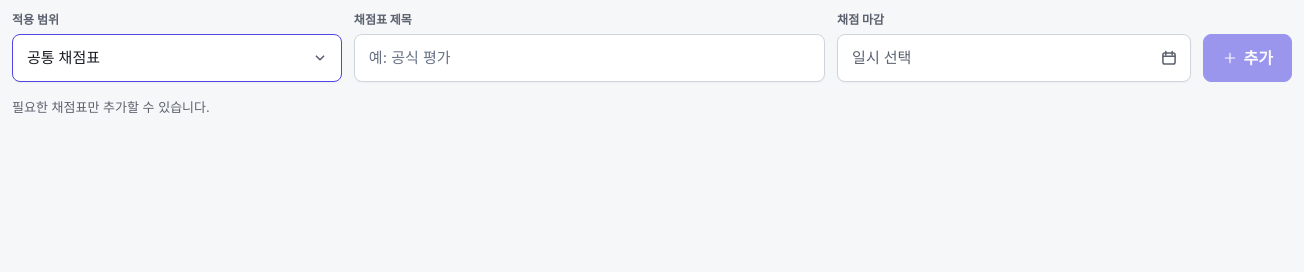
Test: ProgramCreateRubricBuilder › 빠른 추가 행에서 채점표 적용 범위를 먼저 선택할 수 있다
Click the dropdown named "새 채점표 적용 범위": click(64, 57) [12, 34, 342, 82]
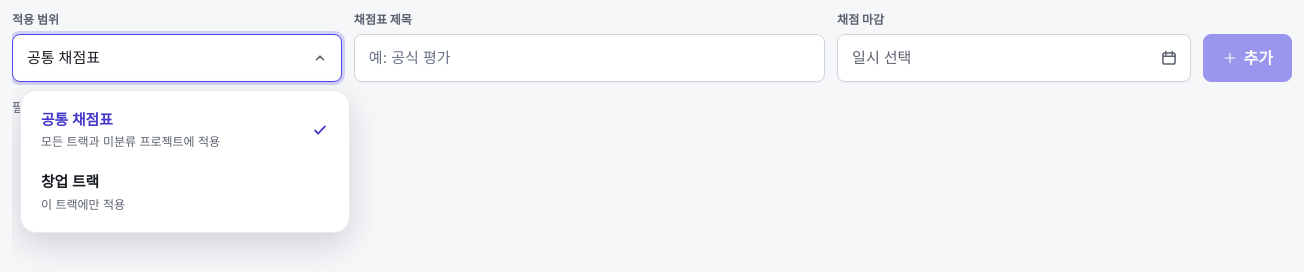
Click the option "창업 트랙 이 트랙에만 적용": click(70, 182) [29, 161, 341, 224]
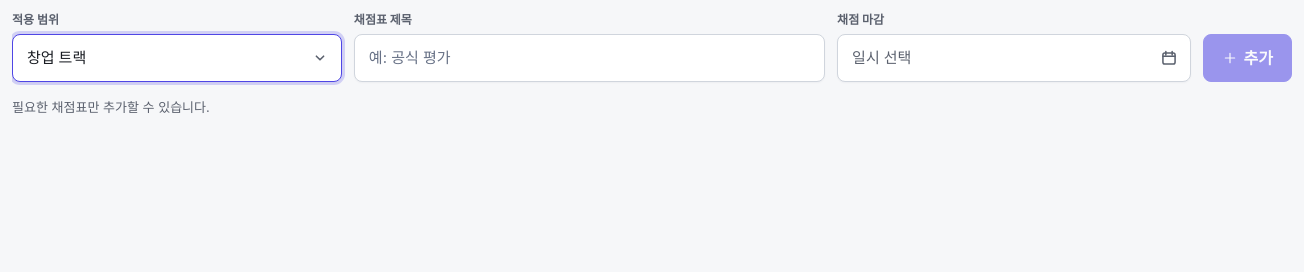
Expected: the dropdown named "새 채점표 적용 범위" reads "창업 트랙", [12, 34, 342, 82]
